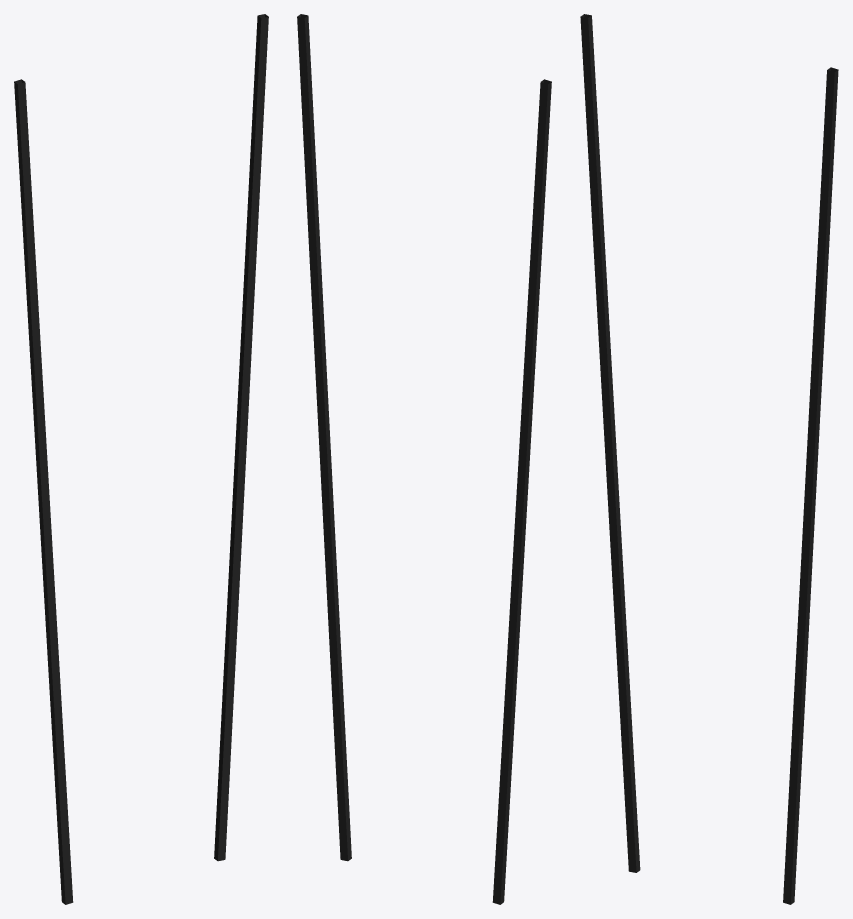
File: wall_LV5_sbarre_windows2.fbx
3 renders of one model, left to right at view 1: azimuth 30°, elevation 25°; view 2: azimuth 150°, elevation 25°; view 3: azimuth 330°, elevation 25°, orthographic.
Visible parts, largest first — view 1: polySurface1; view 2: polySurface1; view 3: polySurface1.
Part boxes in pixels (bbox=[...]): polySurface1: bbox=[14, 14, 268, 904]; polySurface1: bbox=[297, 14, 551, 904]; polySurface1: bbox=[580, 14, 838, 904].
Bounding box in the file's own units: 248 × 791 × 6.4.
